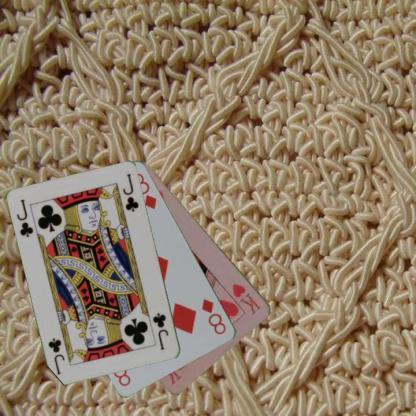8d: (199, 296, 228, 336)
Jc: (13, 196, 36, 238), (150, 310, 170, 354)
Kh: (230, 280, 262, 316)
